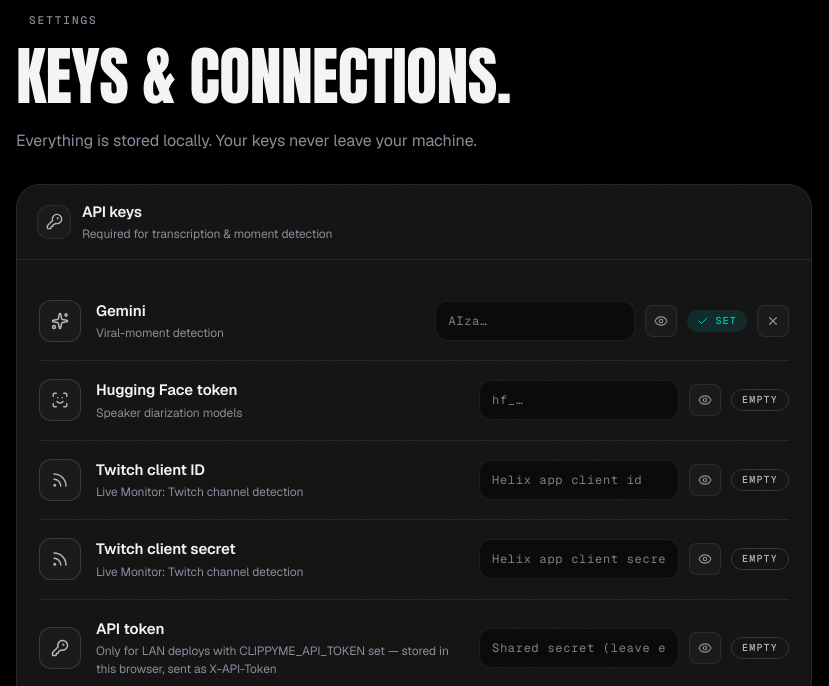
Test: clearing a present key saves an empty value and the badge flips to empty
This screenshot has width=829, height=686.
Check: the text "set" is shown, box [687,310,747,332]
Step 1. Click the button named "Clear Gemini key" → coordinates (773, 321), box [757,305,789,337]
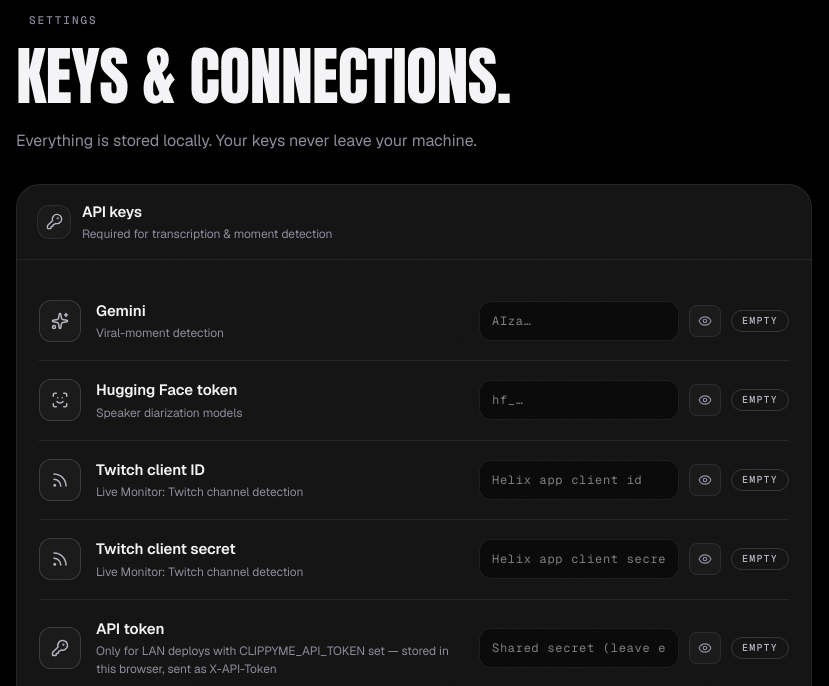
Check: the 1st text "empty" is shown, box [731,310,789,332]
